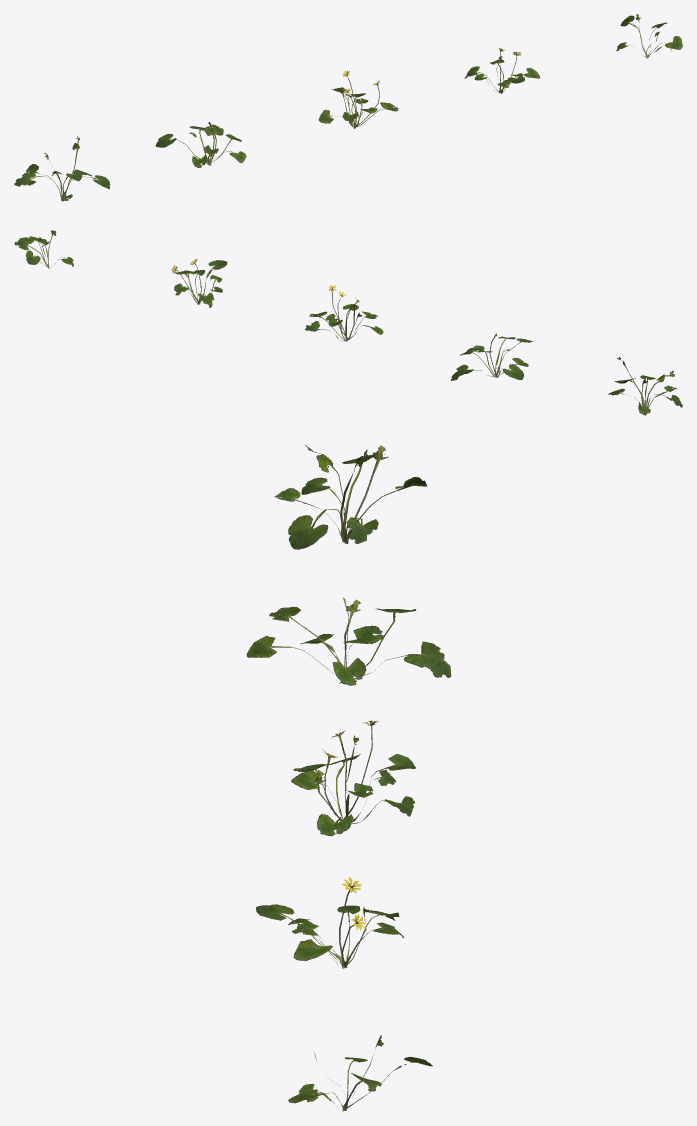
The model's file is celandine_01.glb.
3 views of the same model, one above another, from view 1: azimuth 30°, elevation 25°; view 2: azimuth 150°, elevation 25°; view 3: azimuth 270°, elevation 25° (orthographic). The views are drawn at different scales.
Visible parts, largest first — view 1: celandine_01_a_LOD0; view 2: celandine_01_a_LOD0; view 3: celandine_01_a_LOD0.
Part boxes in pixels (x1,y1,x2,y2): celandine_01_a_LOD0: (14, 14, 682, 201); celandine_01_a_LOD0: (14, 230, 682, 415); celandine_01_a_LOD0: (246, 445, 451, 1111).
Bounding box in the file's own units: 2.24 × 0.1852 × 0.3051.
Materials: 1 (1 with a texture image).
